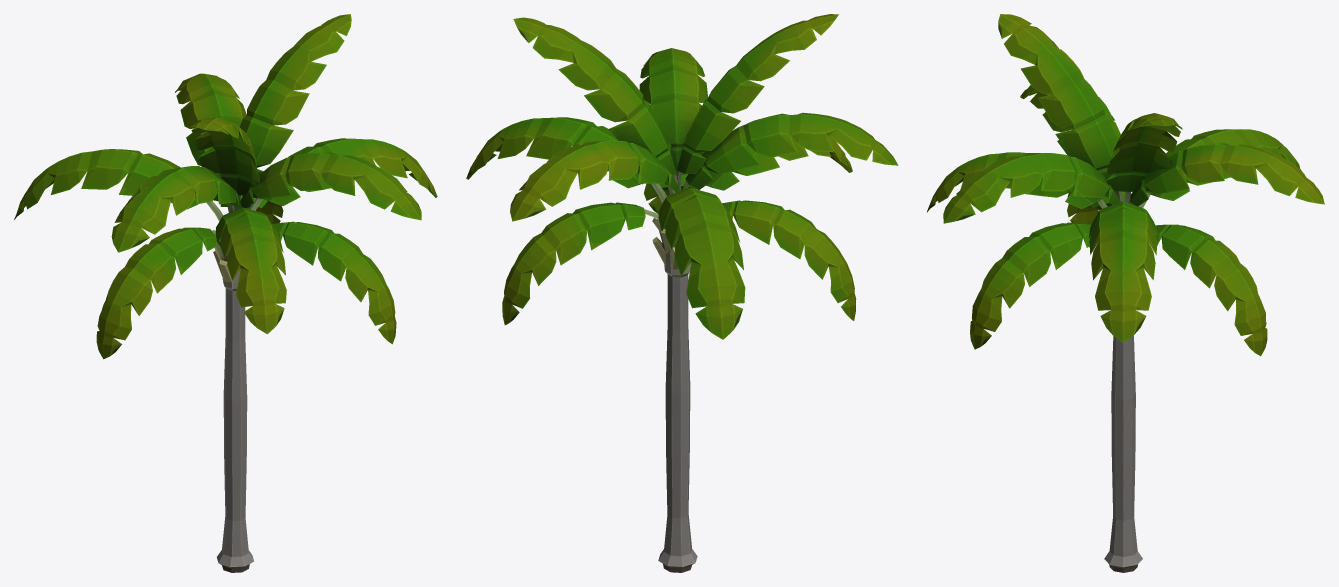
The model's file is Queen Palm Tree.glb.
3 views of the same model, side by side, from view 1: azimuth 30°, elevation 25°; view 2: azimuth 150°, elevation 25°; view 3: azimuth 270°, elevation 25° (orthographic). The views are drawn at different scales.
Visible parts, largest first — view 1: QueenPalmTree_Mesh; view 2: QueenPalmTree_Mesh; view 3: QueenPalmTree_Mesh.
Part boxes in pixels (box(x1,y1,x2,y2)): QueenPalmTree_Mesh: box(14, 14, 437, 572); QueenPalmTree_Mesh: box(466, 14, 898, 572); QueenPalmTree_Mesh: box(927, 14, 1324, 572).
Bounding box in the file's own units: 10.7 × 14.17 × 10.06.
Materials: 1 (1 with a texture image).
